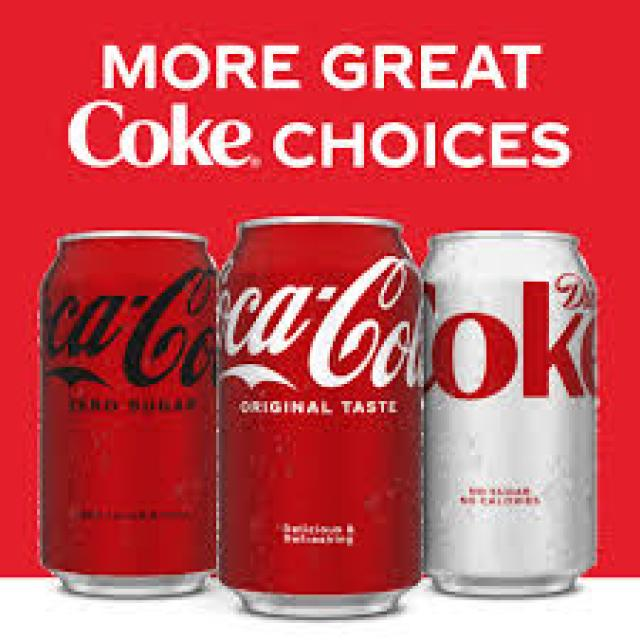Cans: (219, 210, 430, 623), (31, 222, 228, 609), (421, 216, 606, 603)
